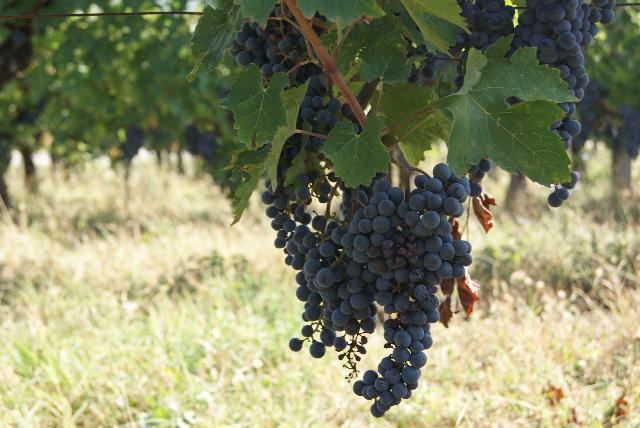grapes: (346, 164, 471, 418), (285, 221, 368, 379), (512, 0, 615, 101), (341, 231, 369, 295)
